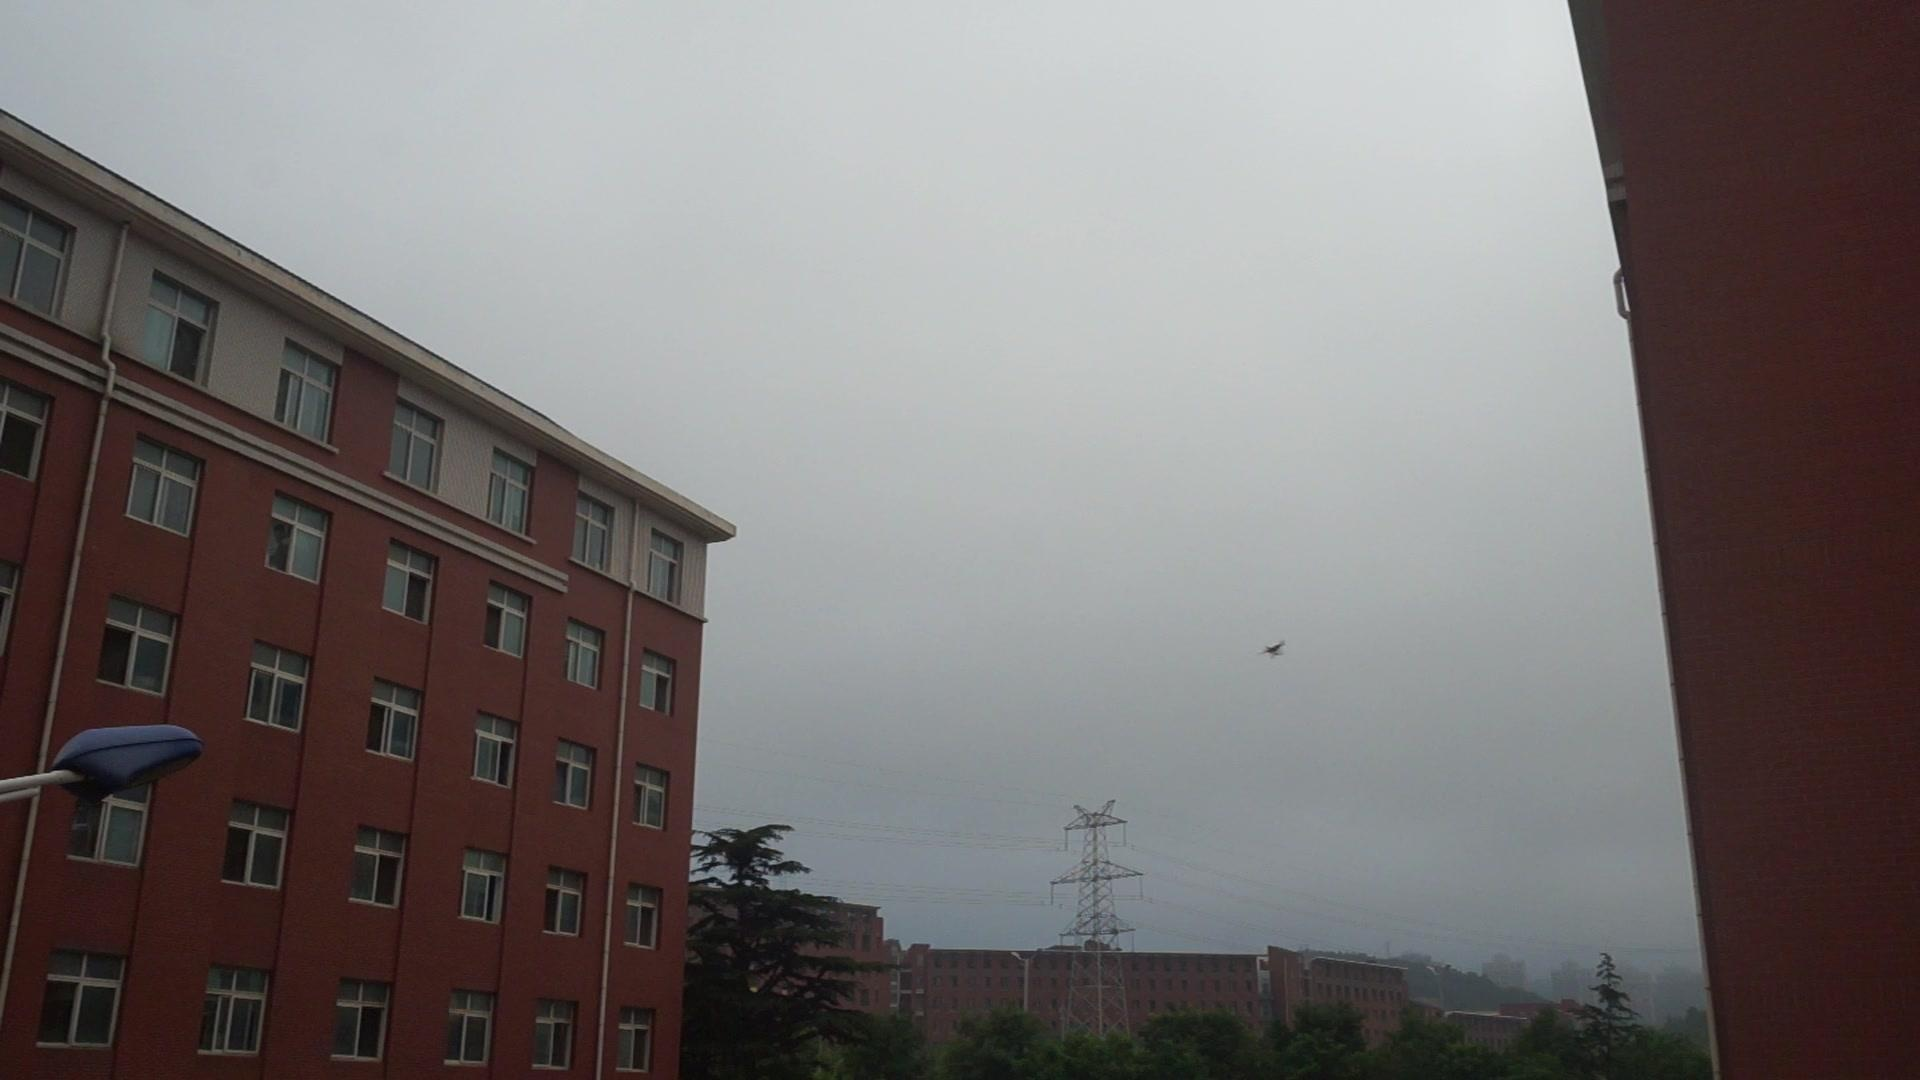UAV: (1259, 641, 1287, 658)
